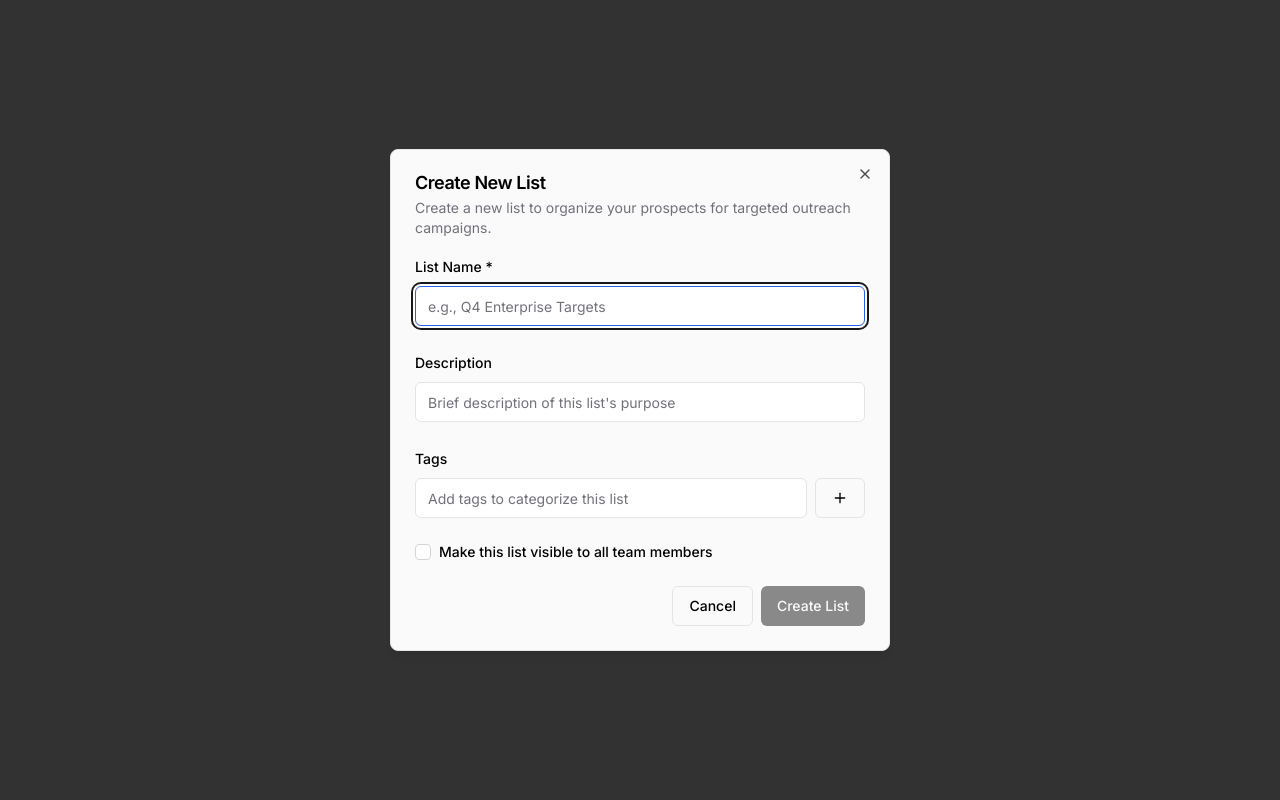
CreateListModal › adds tag on Enter key press
Type "enter-tag" into the field with placeholder "Add tags to categorize this list" at (611, 498), box [415,478,807,518]
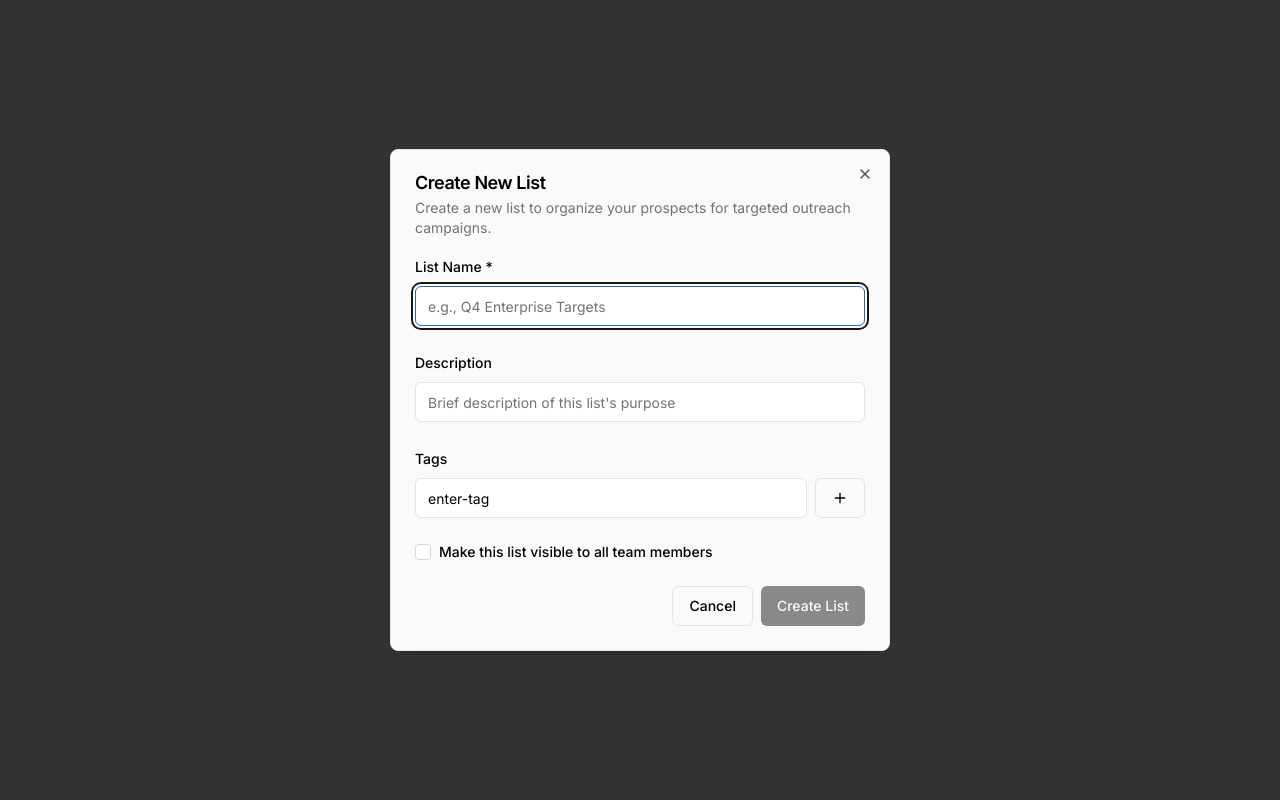
Press Enter in the field with placeholder "Add tags to categorize this list", box [415,478,807,518]
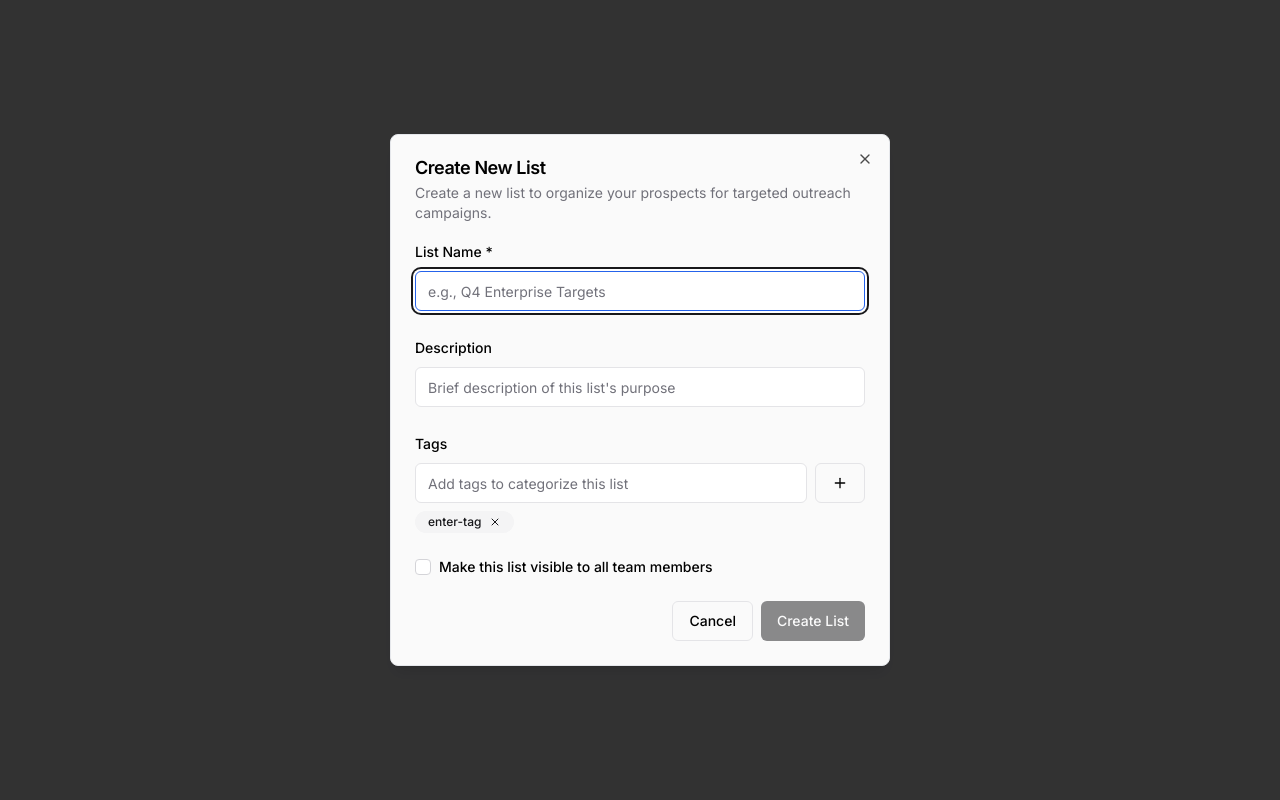
Result: the text "enter-tag" is shown at [415,511,514,533]
